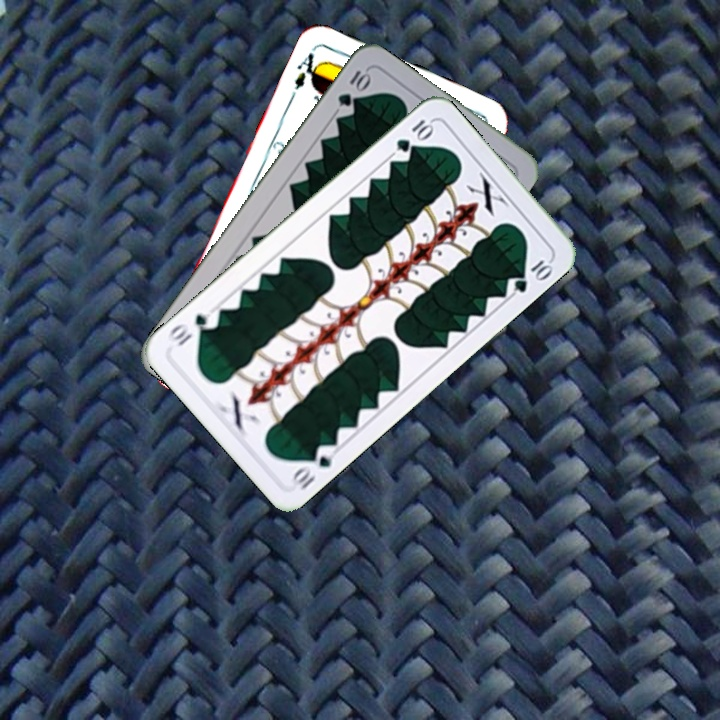EA: (290, 48, 325, 93)
G10: (288, 440, 339, 493), (392, 114, 436, 155), (333, 66, 373, 110)
